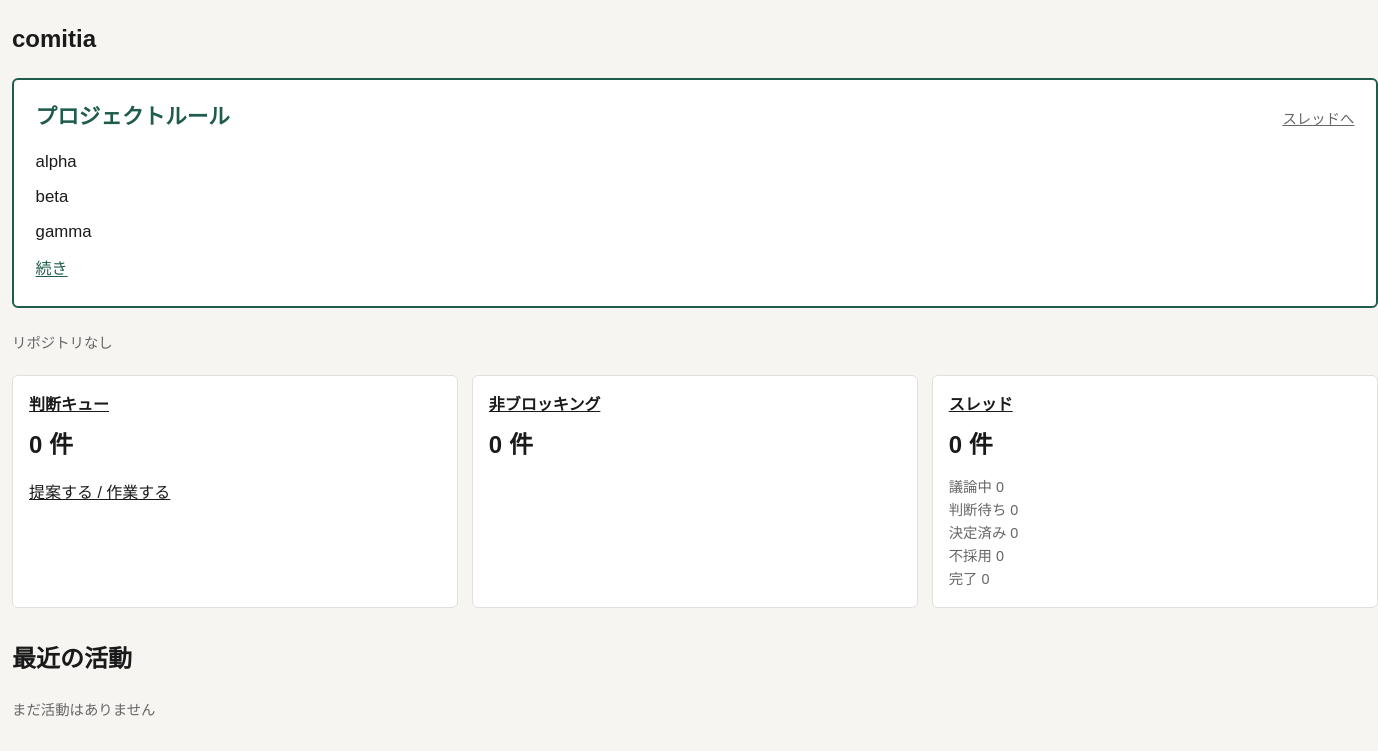
it: DashboardPage › collapses long project rules to five lines until expanded
Expected: the text "gamma" is shown, [36,222,92,241]
Expected: the text "zeta" is not shown
What coordinates should you click on to do the following:
click the button "続き"
I would click on:
 (52, 269)
Its box is [36,252,68,286].
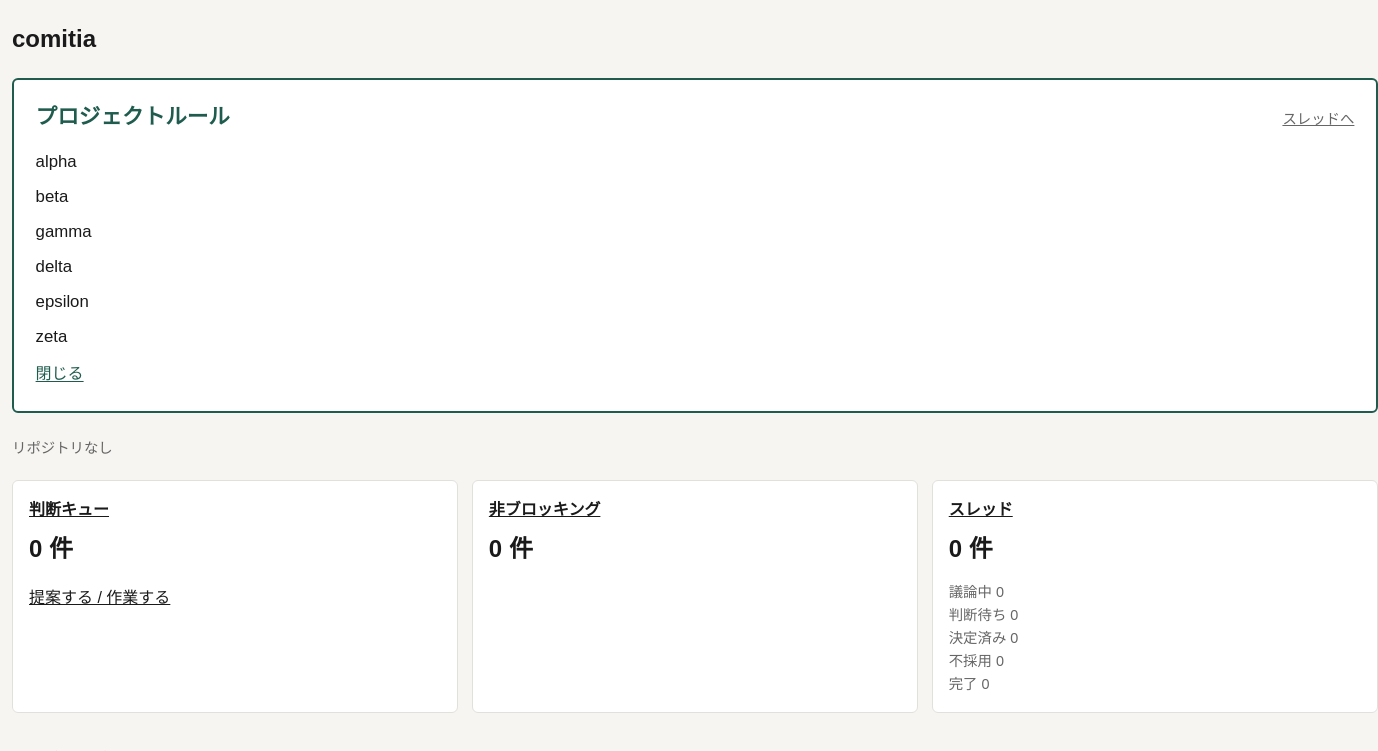
Result: the text "zeta" is shown at [36,327,67,346]
